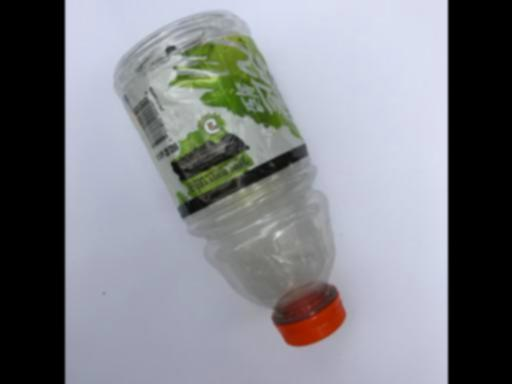PET: (110, 9, 345, 346)
juice: (110, 9, 345, 346)
plastic: (110, 9, 345, 346)
